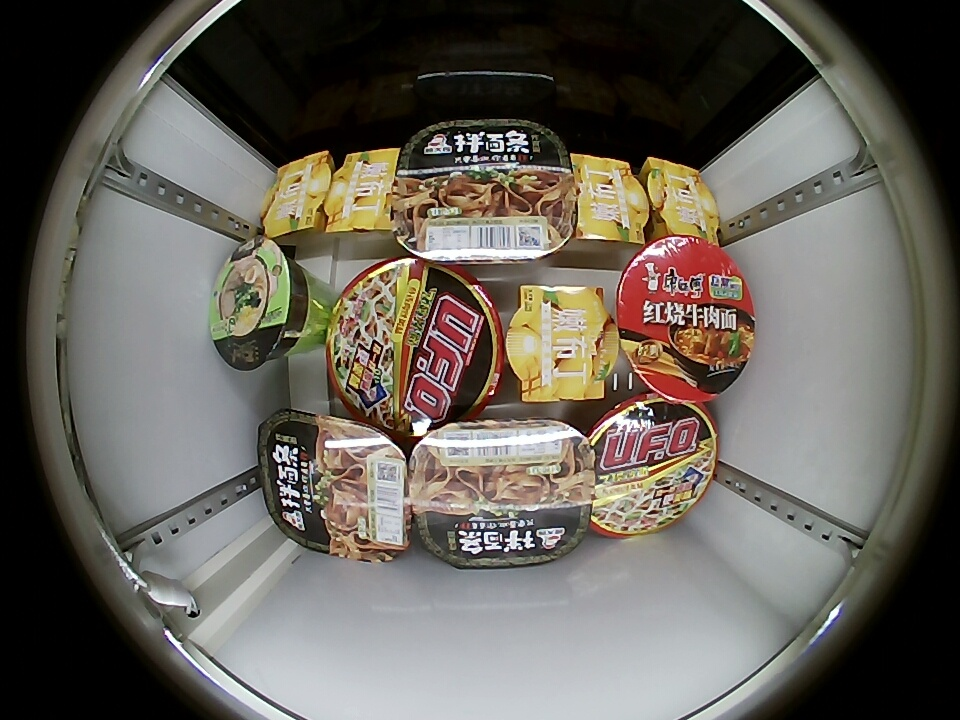buding: (505, 285, 618, 403), (571, 153, 649, 242), (323, 149, 400, 234), (644, 157, 721, 242), (260, 150, 333, 237)
gudasao: (409, 417, 593, 571), (393, 120, 576, 264), (258, 408, 413, 563)
hongshaoniurou: (616, 235, 756, 400)
tangdaren: (209, 237, 312, 372)
ufo2: (326, 258, 502, 434), (585, 395, 718, 538)
